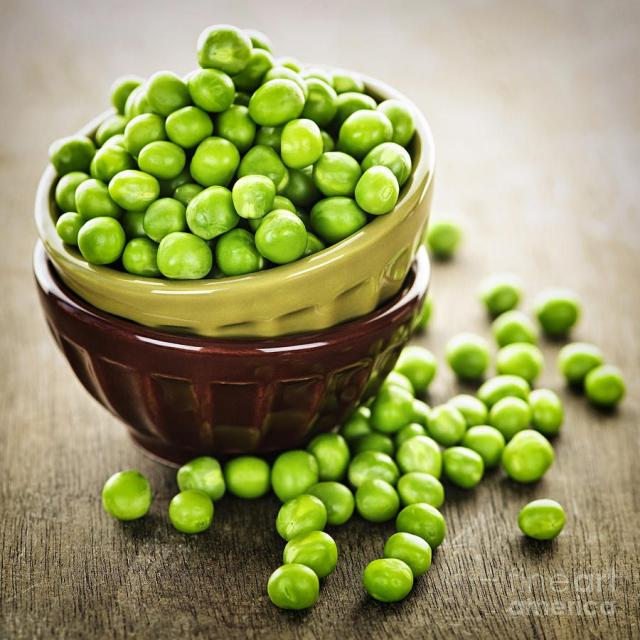Peas: (63, 52, 364, 246), (373, 379, 570, 536)
